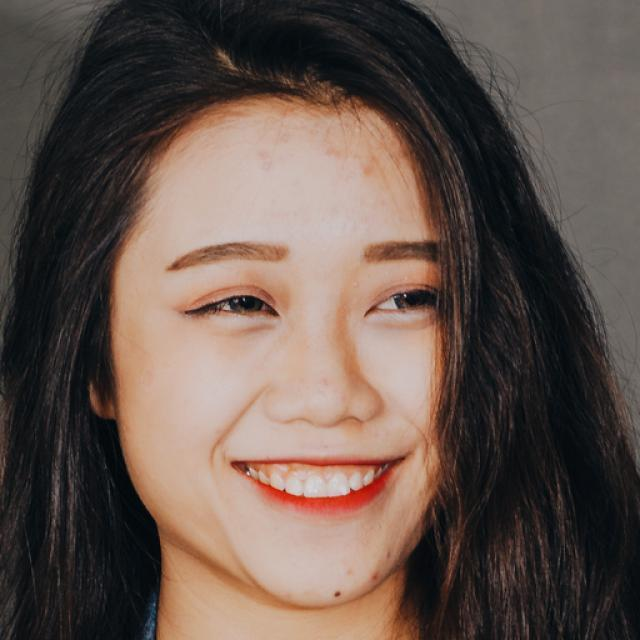happy: (114, 95, 462, 606)
